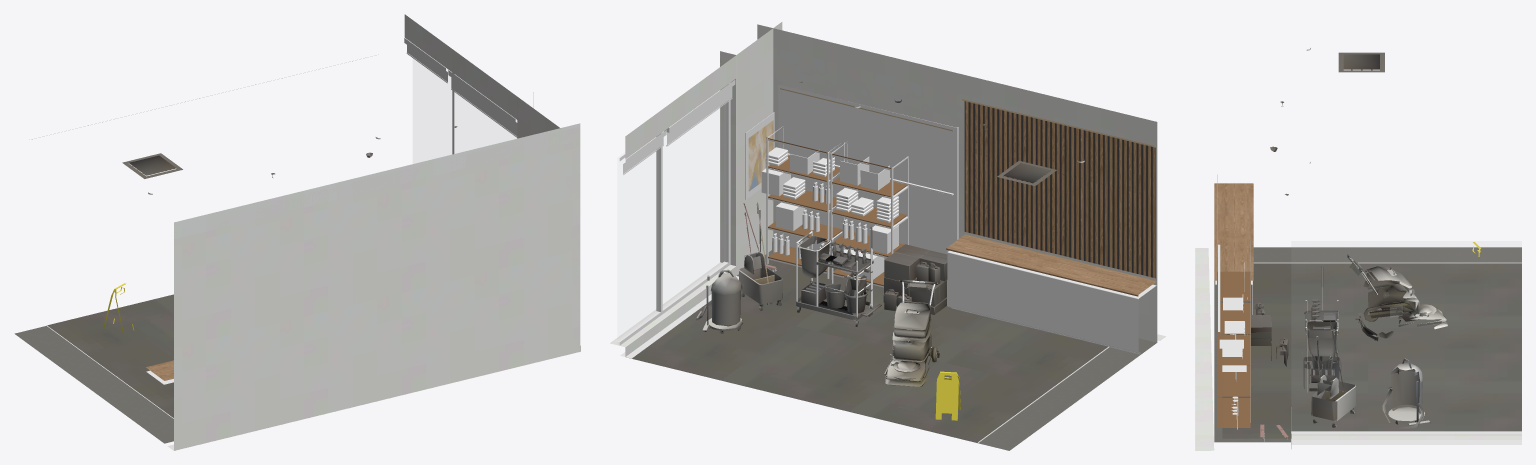
The model's file is z-equipment-lite.light.873ee8d8.glb.
3 views of the same model, side by side, from view 1: azimuth 30°, elevation 25°; view 2: azimuth 150°, elevation 25°; view 3: azimuth 270°, elevation 25° (orthographic). The views are drawn at different scales.
Visible parts, largest first — view 1: equipment_plaster, equipment_bay_floor, equipment_carpet, equipment_satin, equipment_fx; view 2: equipment_satin, equipment_bay_floor, equipment_plaster, equipment_proxy_slat, equipment_fx, equipment_metal_lit, equipment_carpet, equipment_oak, equipment_steel_frame_shelves_01, equipment_art, equipment_WetFloorSign_01, equipment_emit; view 3: equipment_bay_floor, equipment_fx, equipment_carpet, equipment_plaster, equipment_steel_frame_shelves_01, equipment_oak, equipment_satin, equipment_metal_lit.
Boxes of the visible parts, box(x1,y1,x2,y2) form: equipment_plaster: box(167, 14, 580, 450); equipment_bay_floor: box(47, 294, 173, 417); equipment_carpet: box(14, 326, 173, 443); equipment_satin: box(146, 38, 517, 384); equipment_fx: box(122, 126, 457, 178); equipment_satin: box(615, 80, 1156, 358); equipment_bay_floor: box(632, 258, 1107, 442); equipment_plaster: box(610, 22, 1165, 356); equipment_proxy_slat: box(964, 101, 1155, 278); equipment_fx: box(696, 81, 1056, 386); equipment_metal_lit: box(745, 112, 1109, 442); equipment_carpet: box(626, 250, 1156, 450); equipment_oak: box(946, 234, 1156, 296); equipment_steel_frame_shelves_01: box(768, 138, 906, 285); equipment_art: box(748, 120, 773, 191); equipment_WetFloorSign_01: box(935, 371, 960, 420); equipment_emit: box(780, 88, 1153, 146); equipment_bay_floor: box(1222, 263, 1521, 438); equipment_fx: box(1227, 52, 1447, 428); equipment_carpet: box(1214, 247, 1521, 442); equipment_plaster: box(1195, 248, 1521, 450); equipment_steel_frame_shelves_01: box(1217, 271, 1250, 427); equipment_oak: box(1214, 183, 1253, 282); equipment_satin: box(1215, 48, 1521, 444); equipment_metal_lit: box(1218, 241, 1521, 422).
Size of the model in its own units: 6.25 by 3.36 by 4.25.
Materials: 14 (7 with a texture image).
